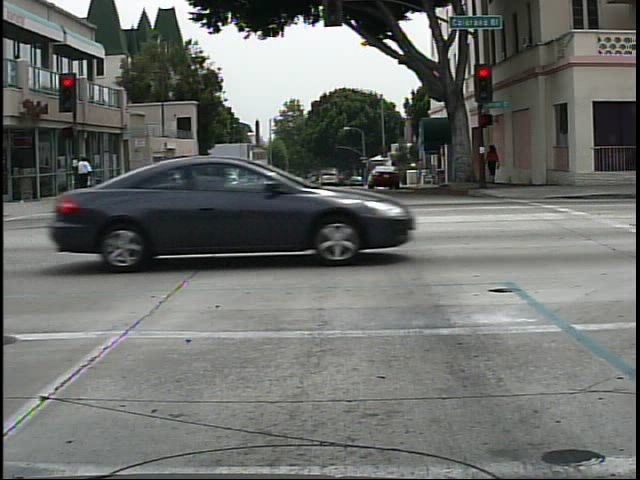person: (70, 147, 99, 209), (485, 138, 503, 192)
